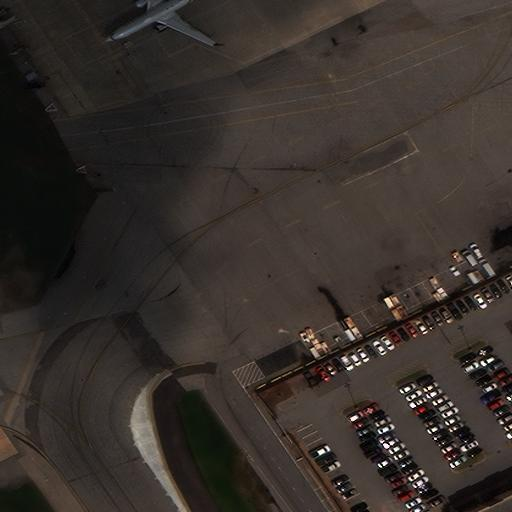Medium Civil Transport: (102, 0, 227, 46)
